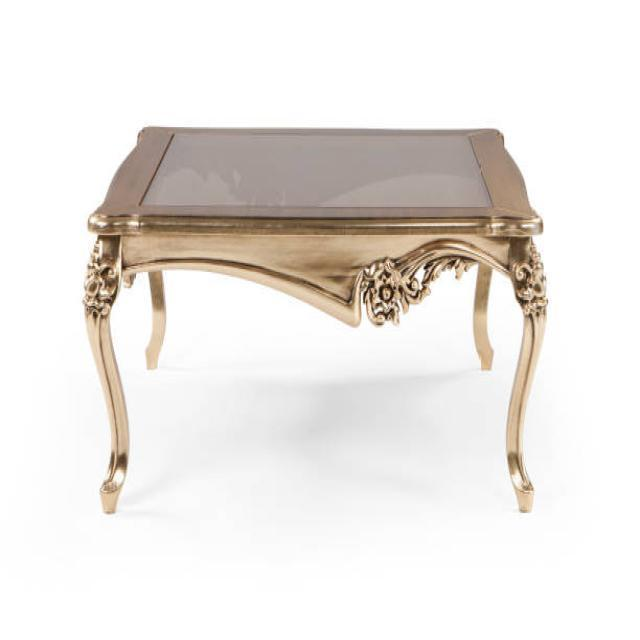table: (81, 124, 548, 516)
